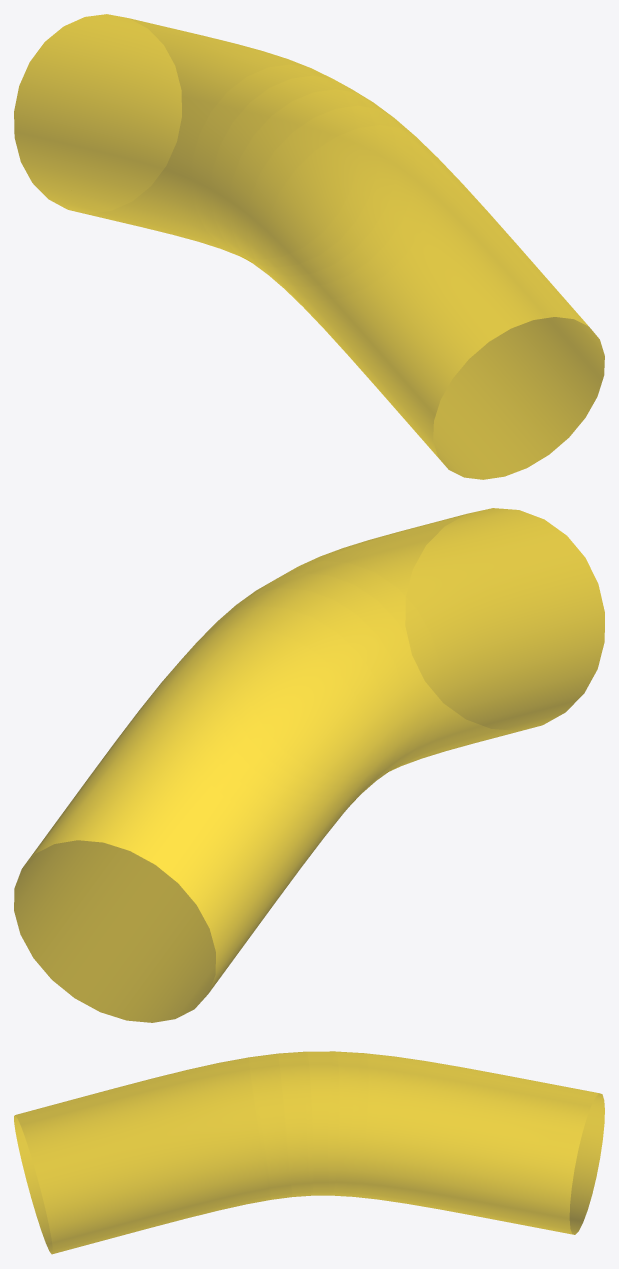
The model's file is Event_31209032_track_23.fbx.
3 views of the same model, one above another, from view 1: azimuth 30°, elevation 25°; view 2: azimuth 150°, elevation 25°; view 3: azimuth 270°, elevation 25° (orthographic). The views are drawn at different scales.
Visible parts, largest first — view 1: Model; view 2: Model; view 3: Model.
Boxes of the visible parts, x1,y1,x2,y2 form: Model: (14,14,604,479); Model: (14,508,604,1022); Model: (14,1051,604,1254).
Bounding box in the file's own units: 0.0482 × 0.0564 × 0.1633.
